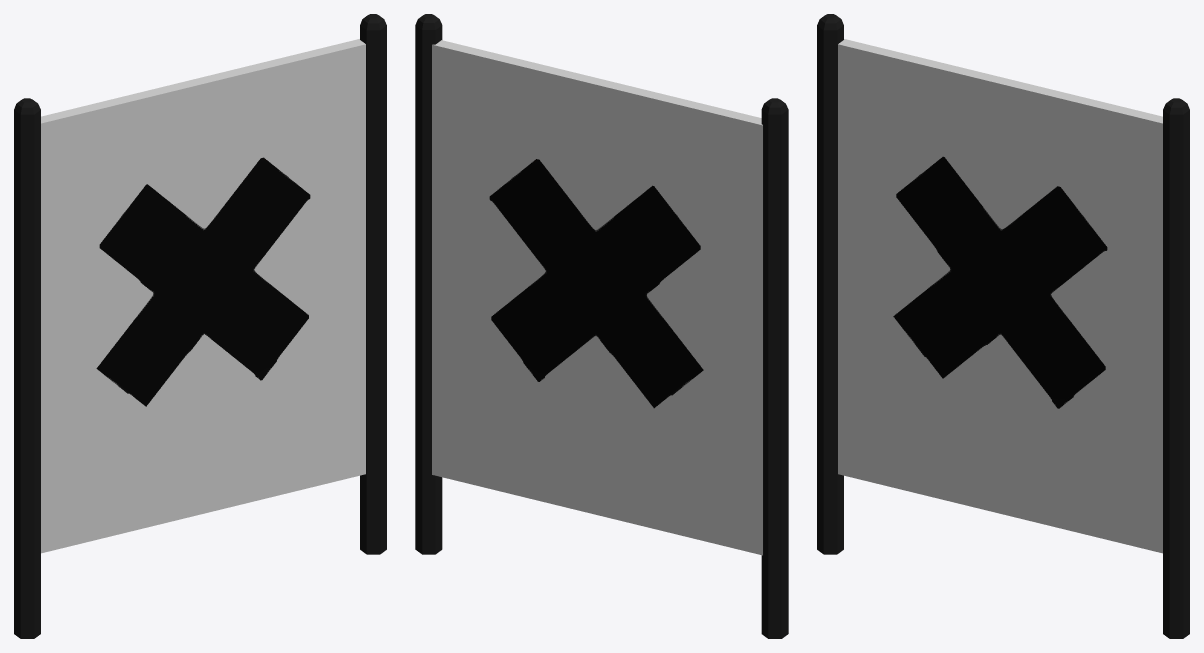
The model's file is obstacles_block.fbx.
3 renders of one model, left to right at view 1: azimuth 30°, elevation 25°; view 2: azimuth 150°, elevation 25°; view 3: azimuth 330°, elevation 25°, orthographic.
Parts seen in each view (by area): view 1: block; view 2: block; view 3: block.
Boxes of the visible parts, bbox=[...] form: block: bbox=[14, 14, 386, 638]; block: bbox=[415, 14, 788, 638]; block: bbox=[817, 14, 1189, 638].
Size of the model in its own units: 679 by 945 by 43.32.
4 materials, 2 textured.
